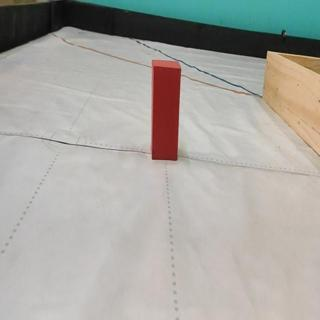redbox: (151, 58, 182, 161)
